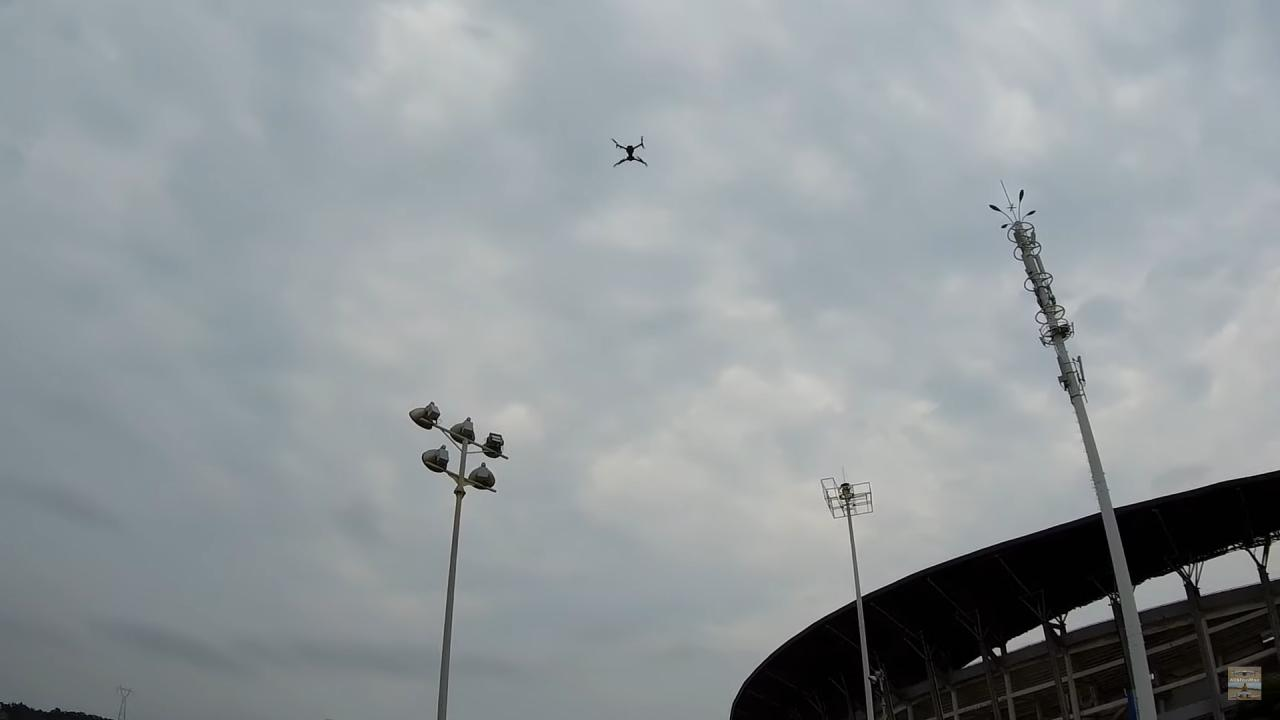Drone: (600, 130, 662, 182)
